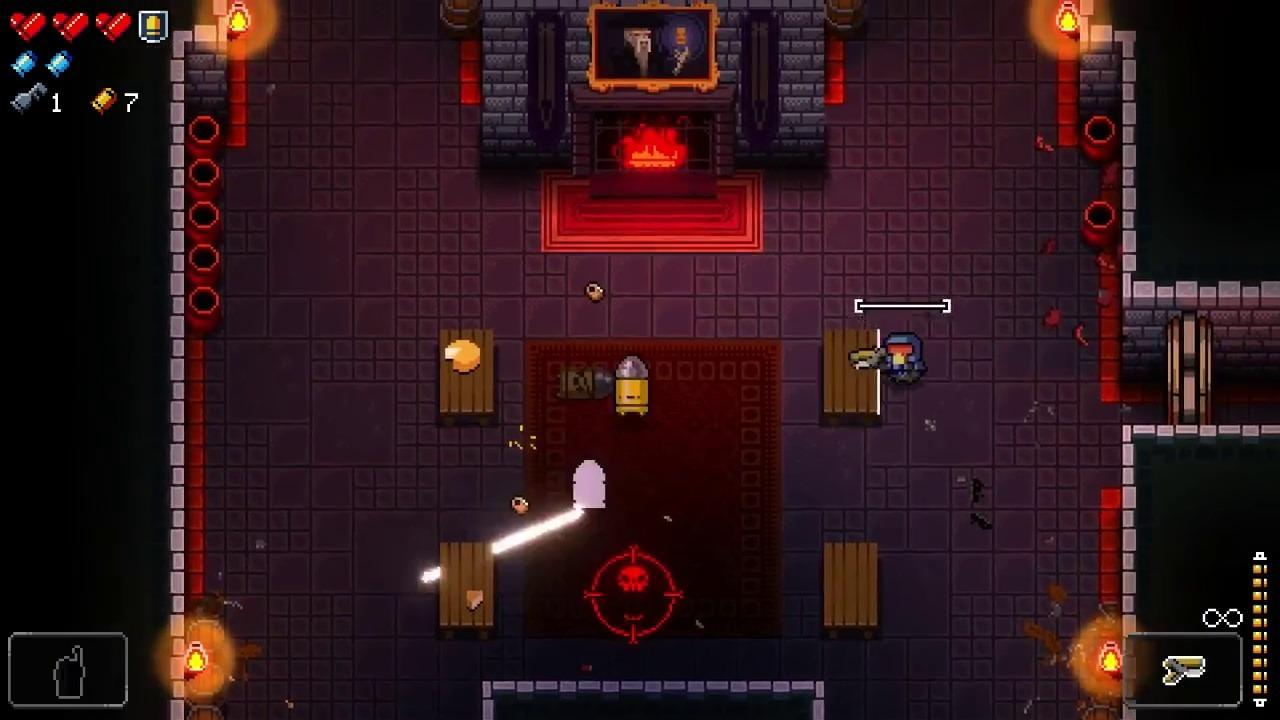bullet_kin: (615, 355, 649, 418)
dead_veteran_bullet_kin: (558, 369, 614, 399)
enemy_spawn: (584, 544, 684, 647)
locked_door: (1168, 309, 1212, 425)
player: (885, 332, 924, 386)
table: (823, 329, 880, 424), (439, 328, 493, 428), (439, 543, 493, 638), (825, 543, 876, 639)
